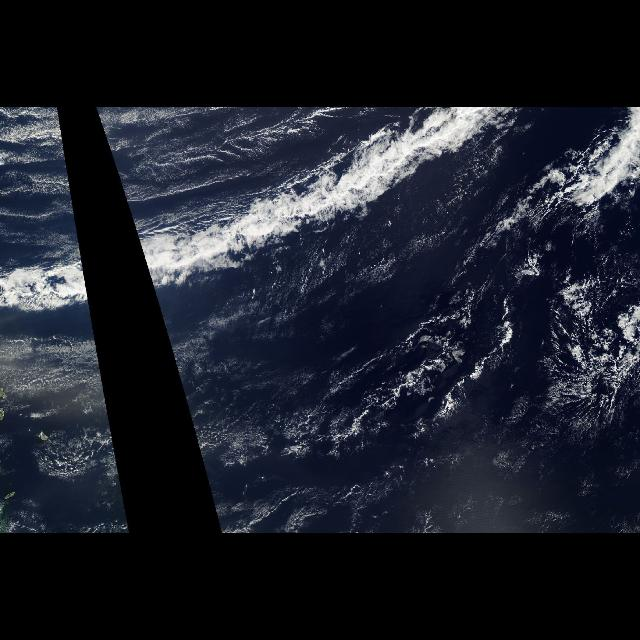Gravel: (306, 286, 518, 448)
Sugar: (119, 109, 248, 187)
